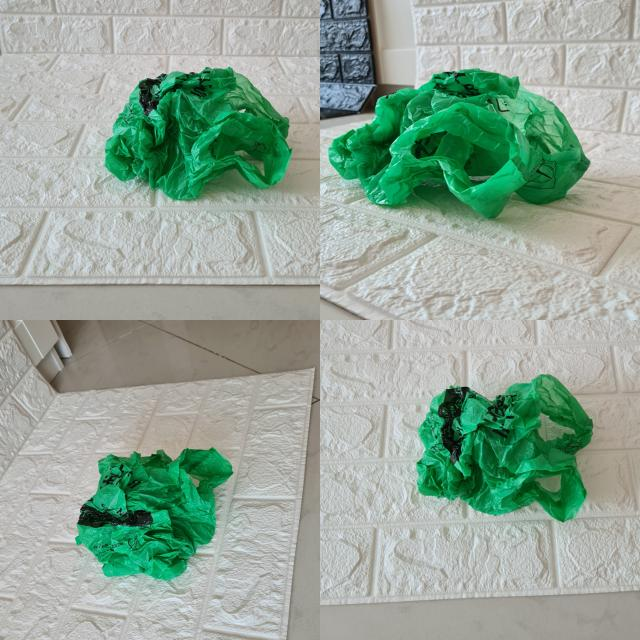Single-layer Plastic: (329, 69, 590, 218), (416, 375, 592, 521), (105, 68, 291, 200), (76, 448, 232, 580)
